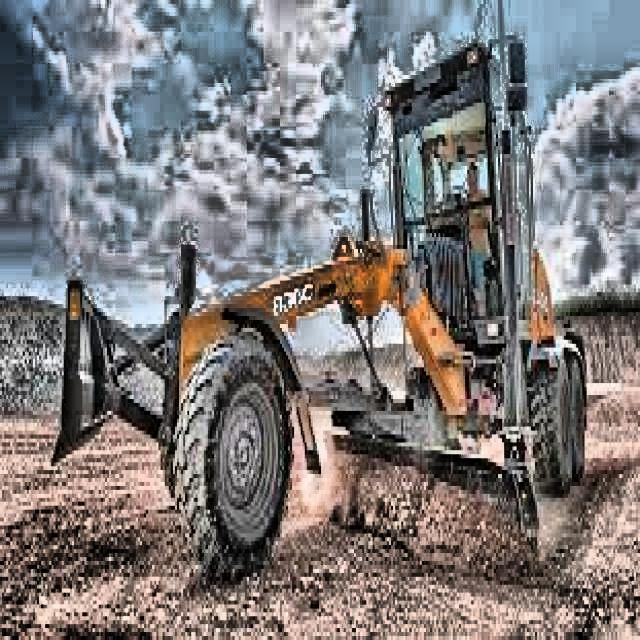bull_dozer/loader/grader: (47, 34, 591, 598)
person: (462, 160, 492, 260)
